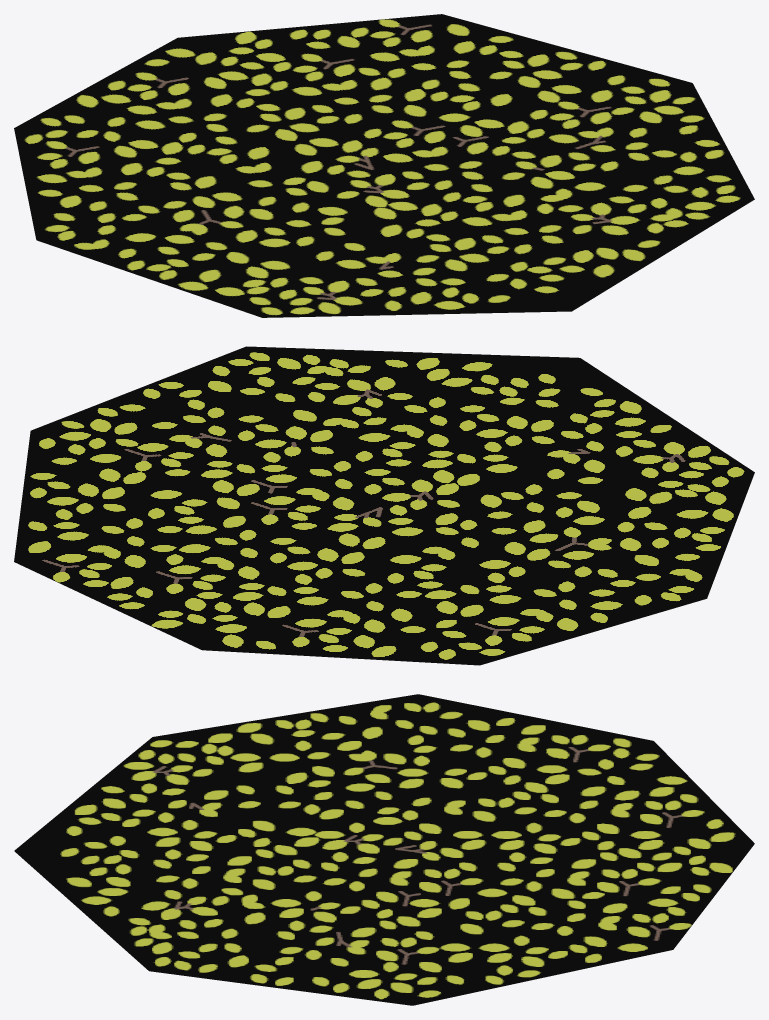
File: canopyCeiling.glb
3 views of the same model, one above another, from view 1: azimuth 30°, elevation 25°; view 2: azimuth 150°, elevation 25°; view 3: azimuth 270°, elevation 25° (orthographic). The views are drawn at different scales.
Visible parts, largest first — view 1: Plane; view 2: Plane; view 3: Plane.
Boxes of the visible parts, box(x1,y1,x2,y2) form: Plane: box(14, 14, 754, 317); Plane: box(14, 346, 754, 665); Plane: box(14, 694, 754, 1005).
Bounding box in the file's own units: 7.53 × 0 × 7.57.
Materials: 1 (1 with a texture image).
